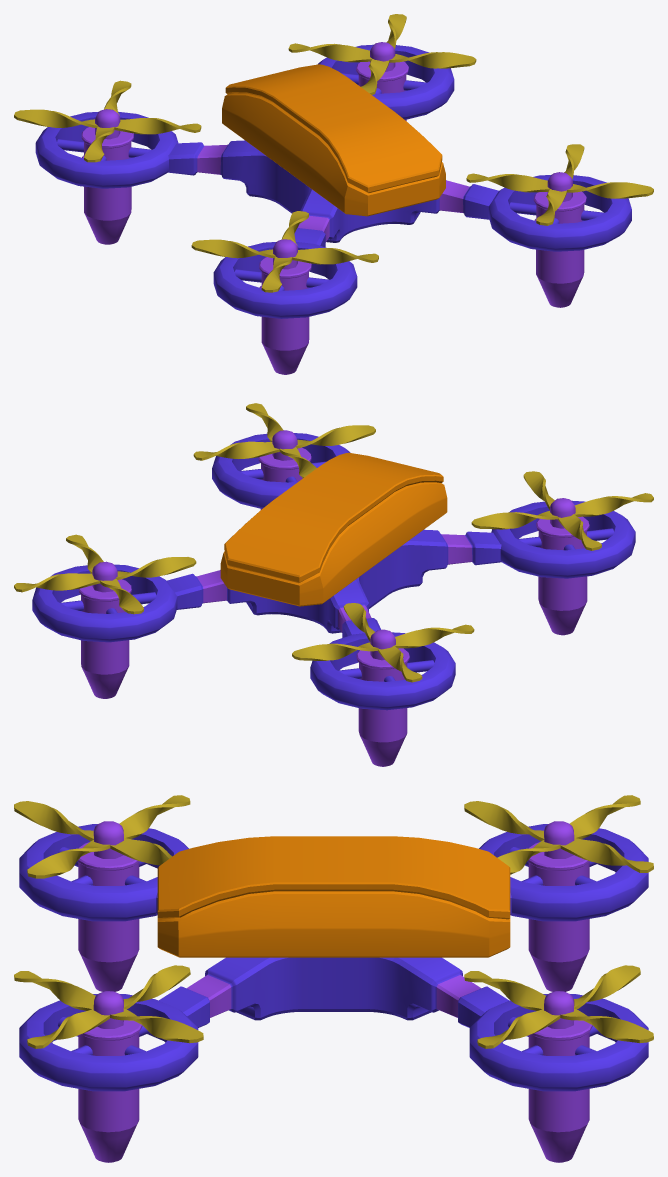
The model's file is drone.fbx.
3 renders of one model, top to bottom at view 1: azimuth 30°, elevation 25°; view 2: azimuth 150°, elevation 25°; view 3: azimuth 270°, elevation 25°, orthographic. The views are drawn at different scales.
Visible parts, largest first — view 1: Cube.022, Plane.078, Plane.080, Plane.126, Plane.079; view 2: Cube.022, Plane.080, Plane.126, Plane.079, Plane.078; view 3: Cube.022, Plane.078, Plane.079, Plane.080, Plane.126.
Boxes of the visible parts, x1,y1,x2,y2 form: Cube.022: [35, 42, 631, 374]; Plane.078: [466, 144, 653, 225]; Plane.080: [191, 211, 378, 292]; Plane.126: [14, 80, 201, 162]; Plane.079: [288, 14, 476, 94]; Cube.022: [32, 430, 635, 766]; Plane.080: [471, 471, 653, 550]; Plane.126: [292, 603, 474, 682]; Plane.079: [14, 534, 196, 614]; Plane.078: [193, 403, 375, 477]; Cube.022: [19, 821, 648, 1162]; Plane.078: [14, 965, 203, 1048]; Plane.079: [464, 965, 653, 1048]; Plane.080: [14, 795, 190, 878]; Plane.126: [464, 795, 653, 874].
Bounding box in the file's own units: 1.23 × 0.4954 × 1.33.
1 material, 1 textured.
